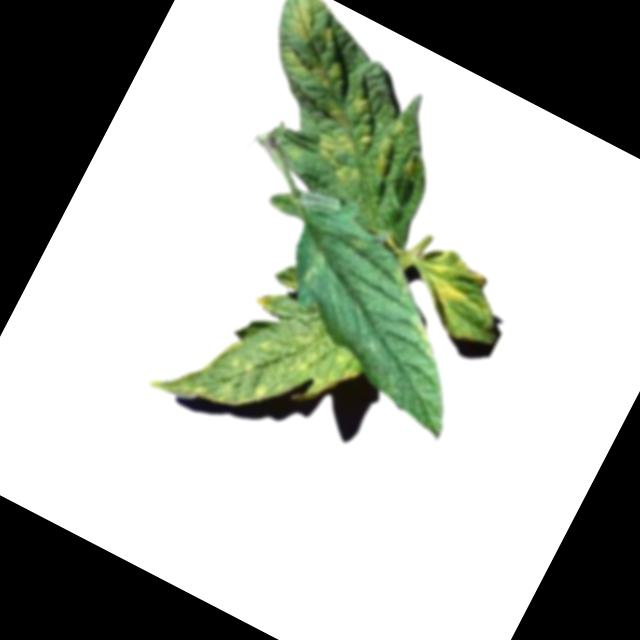Leaf_Mold: (144, 256, 375, 468), (222, 1, 441, 196), (398, 239, 491, 336), (293, 245, 334, 291)
